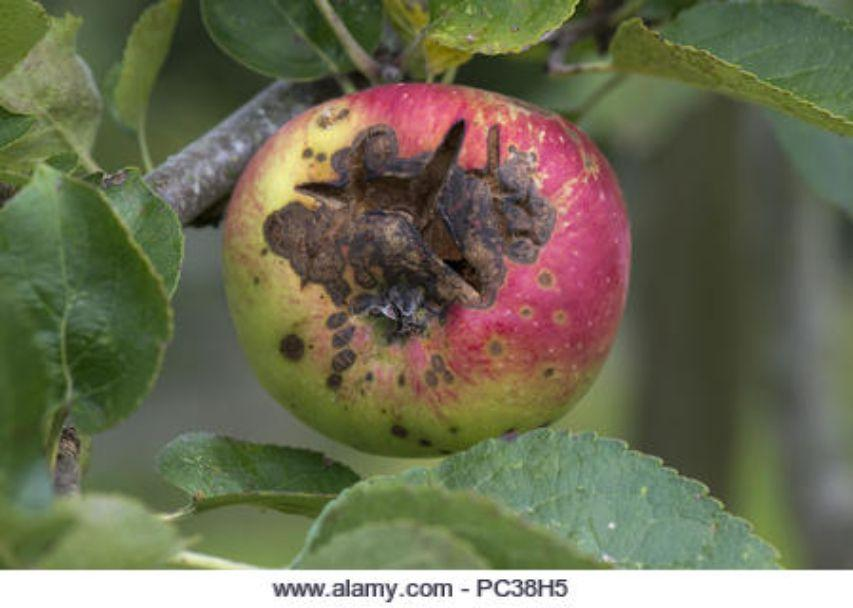SCAB: (195, 51, 699, 480)
